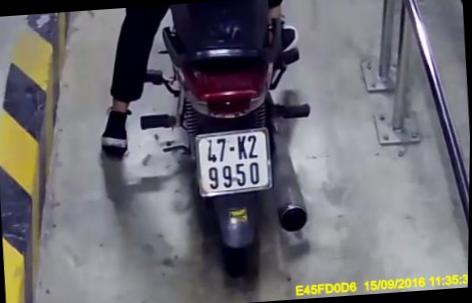LP: (193, 128, 275, 204)
